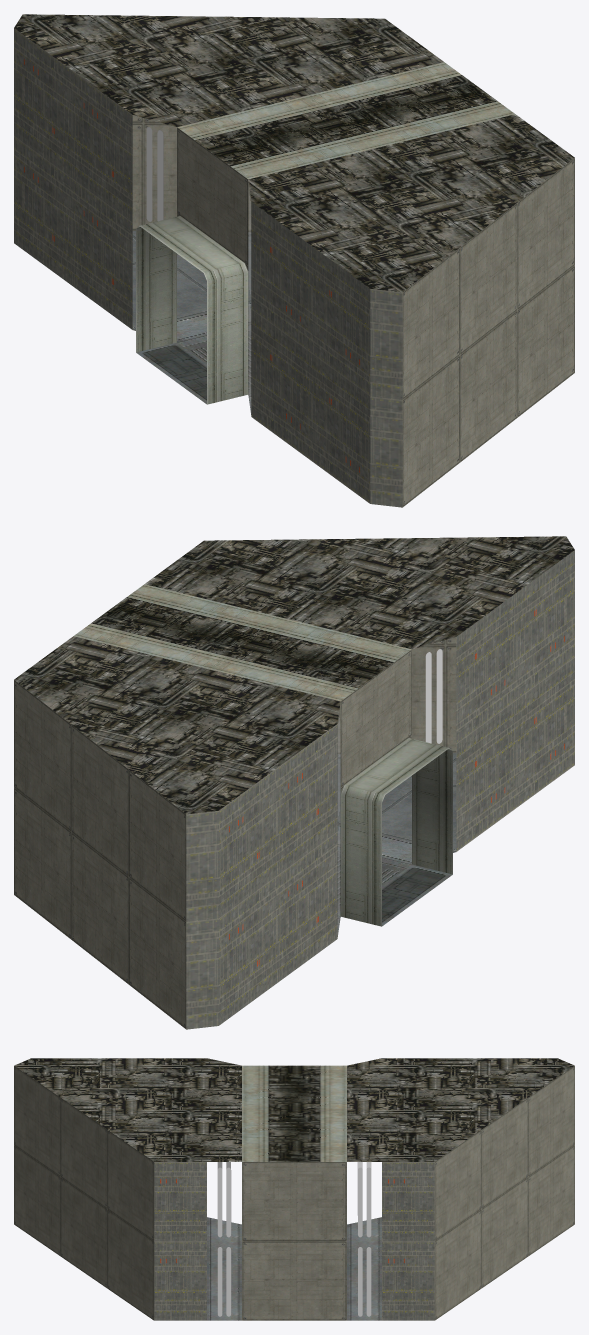
Rendered from thm_tato_lucky_despot_r9_kitchen_mesh_r9.fbx.
3 renders of one model, top to bottom at view 1: azimuth 30°, elevation 25°; view 2: azimuth 150°, elevation 25°; view 3: azimuth 270°, elevation 25°, orthographic. The views are drawn at different scales.
Visible parts, largest first — view 1: mesh_node; view 2: mesh_node; view 3: mesh_node.
Boxes of the visible parts, box(x1,y1,x2,y2) form: mesh_node: box(14, 14, 574, 507); mesh_node: box(14, 536, 574, 1029); mesh_node: box(14, 1058, 574, 1320).
Size of the model in its own units: 7.5 by 5 by 16.
